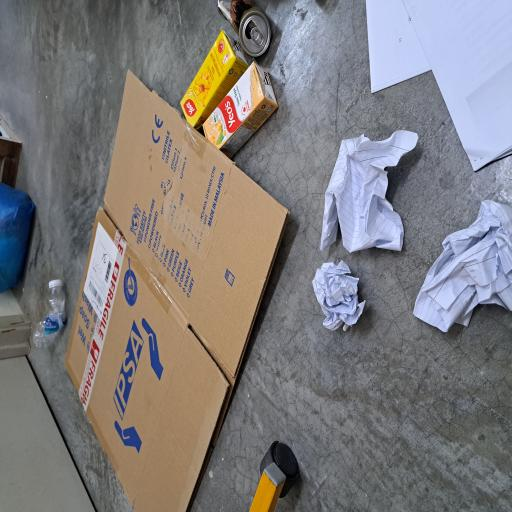can: (341, 287, 384, 361)
cardboard: (0, 87, 333, 386)
drink carton: (266, 269, 338, 372), (286, 240, 362, 334)
paper: (193, 424, 286, 512), (135, 415, 189, 487), (314, 486, 384, 512)
plastic bag: (166, 0, 250, 49)
plastic bottle: (122, 44, 170, 89)
plastic bottle cap: (168, 64, 175, 84)
pop tab: (348, 334, 364, 353)
